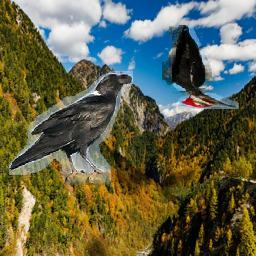Crow: (9, 71, 133, 185)
Woodpecker: (163, 25, 240, 109)
